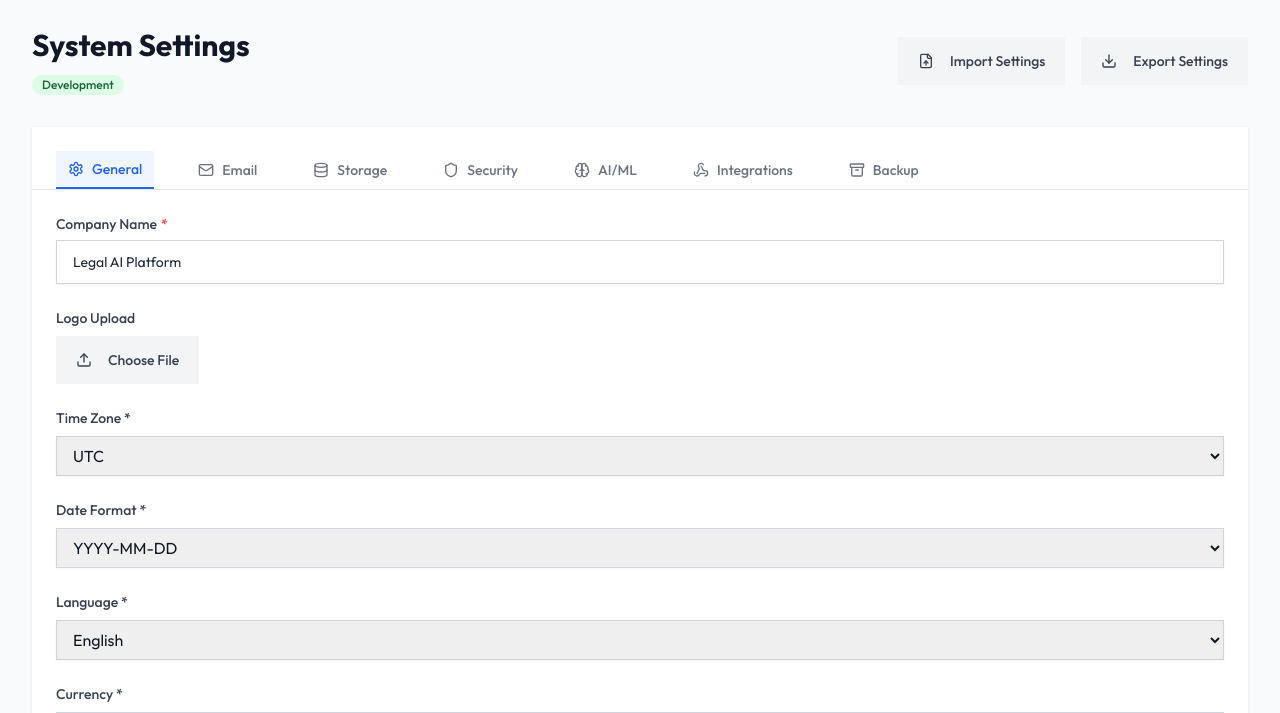
Test: SystemSettingsPage › Storage Settings Tab › should render all storage settings fields
The width and height of the screenshot is (1280, 713).
Click the tab "Storage".
click(350, 170)  # box [301,151,399,189]
(page scrolled)
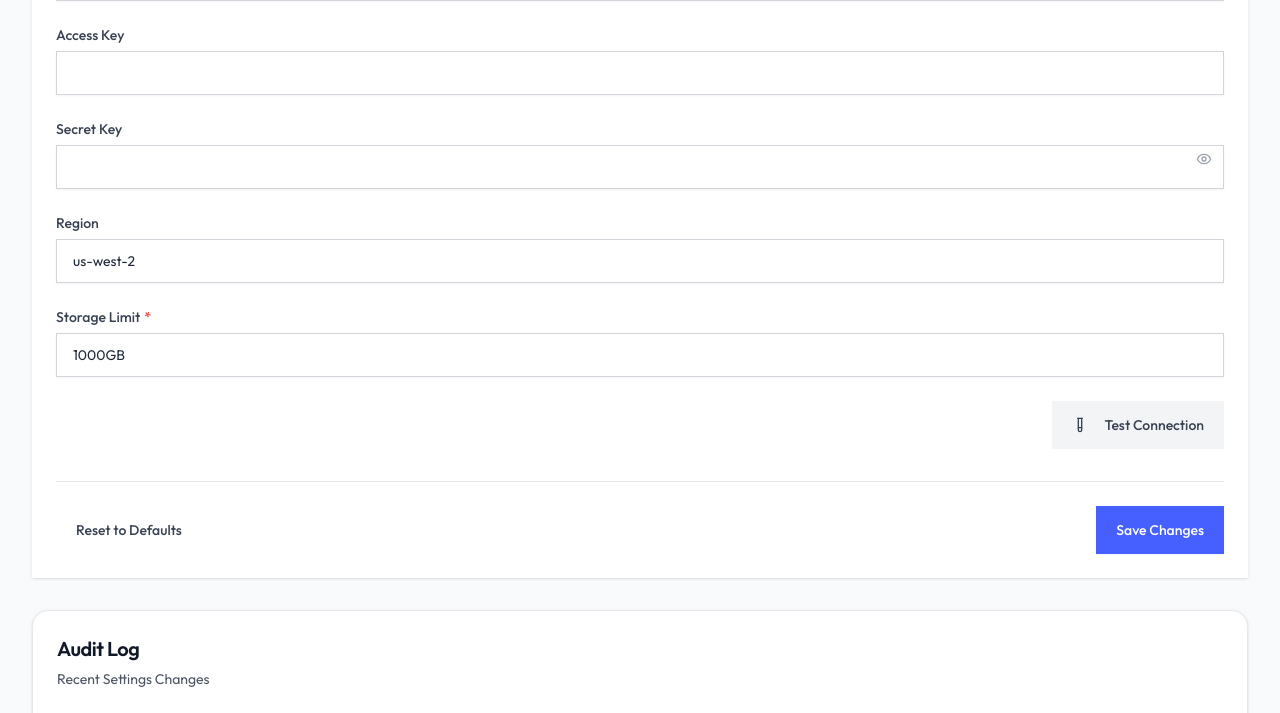
expect the field labelled "Access Key" is shown: met, box [56,51,1224,95]
expect the password field labelled "Secret Key" is shown: met, box [56,145,1224,189]
expect the field labelled "Storage Limit*" is shown: met, box [56,333,1224,377]
